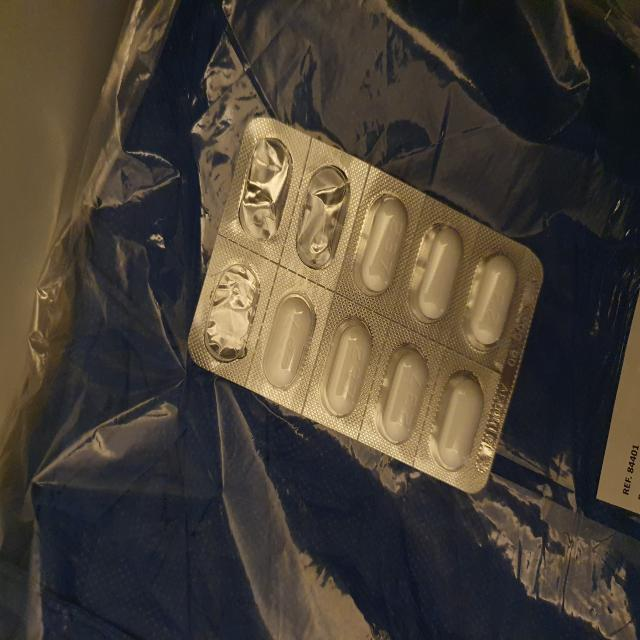Empty: (230, 124, 305, 254), (195, 252, 271, 377), (289, 153, 362, 281)
Pill: (310, 307, 384, 430), (345, 186, 419, 307), (254, 281, 327, 402), (368, 334, 440, 455), (405, 211, 474, 335), (425, 364, 495, 482), (459, 246, 528, 361)
